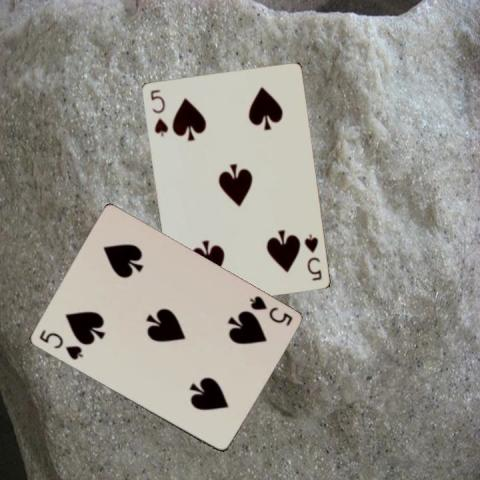5s: (36, 327, 85, 361), (246, 293, 293, 328), (147, 86, 169, 137), (300, 231, 322, 282)
